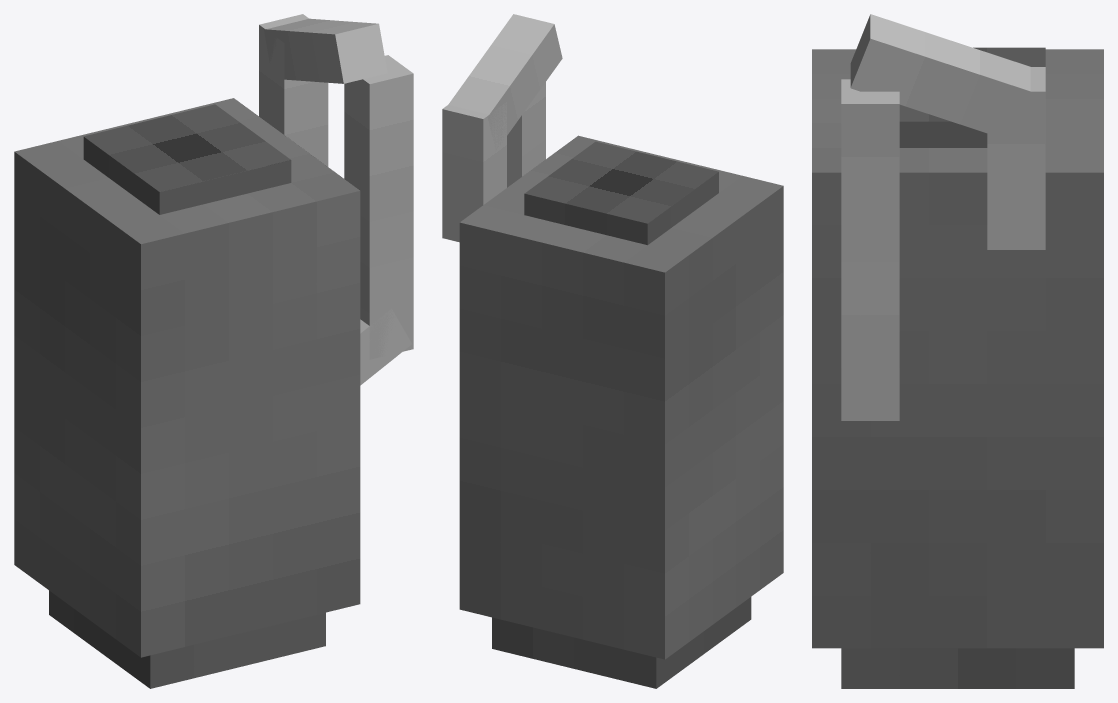
File: turbopump.obj
3 renders of one model, left to right at view 1: azimuth 30°, elevation 25°; view 2: azimuth 150°, elevation 25°; view 3: azimuth 270°, elevation 25°, orthographic. The views are drawn at different scales.
Parts seen in each view (by area): view 1: TurboPump; view 2: TurboPump; view 3: TurboPump.
Boxes of the visible parts, left/top/right/bottom form: TurboPump: left=14, top=14, right=413, bottom=688; TurboPump: left=442, top=14, right=783, bottom=688; TurboPump: left=812, top=14, right=1103, bottom=688.
Bounding box in the file's own units: 0.4062 × 0.8125 × 0.3125.
